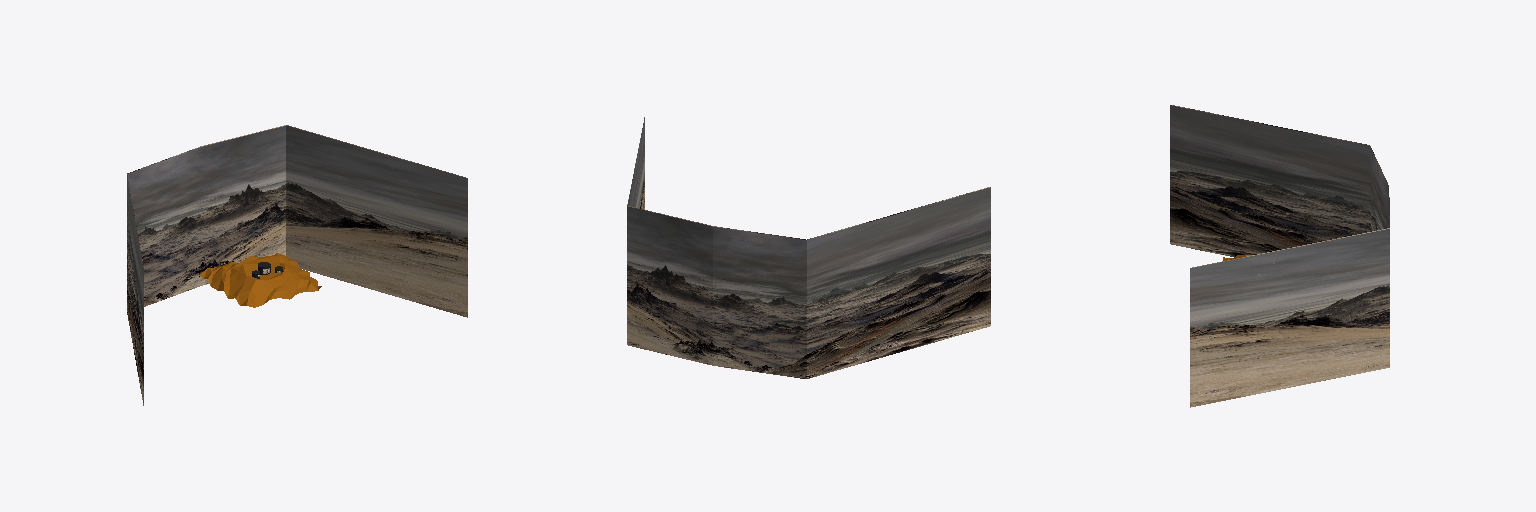
3 renders of one model, left to right at view 1: azimuth 30°, elevation 25°; view 2: azimuth 150°, elevation 25°; view 3: azimuth 270°, elevation 25°, orthographic.
Parts seen in each view (by area): view 1: Plane; view 2: Plane; view 3: Plane.
Part boxes in pixels (bbox=[...]): Plane: bbox=[127, 125, 467, 405]; Plane: bbox=[627, 117, 990, 378]; Plane: bbox=[1170, 105, 1389, 407].
Size of the model in its own units: 220 by 87.75 by 125.
6 materials, 4 textured.